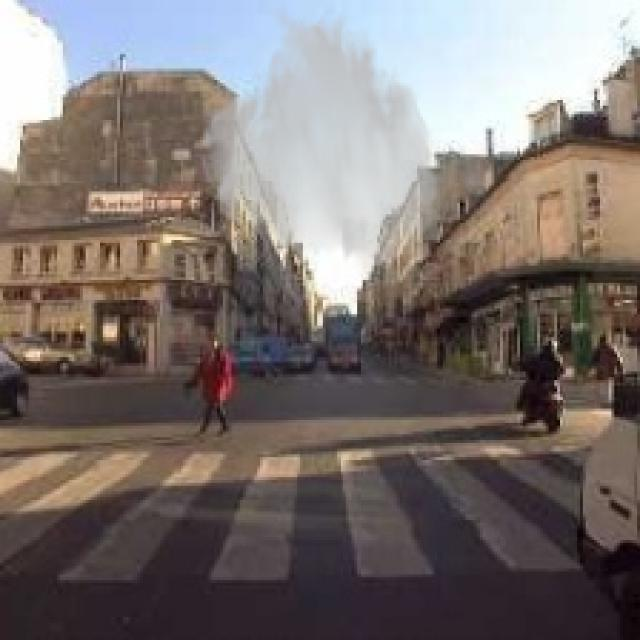smoke: (197, 3, 443, 274)
